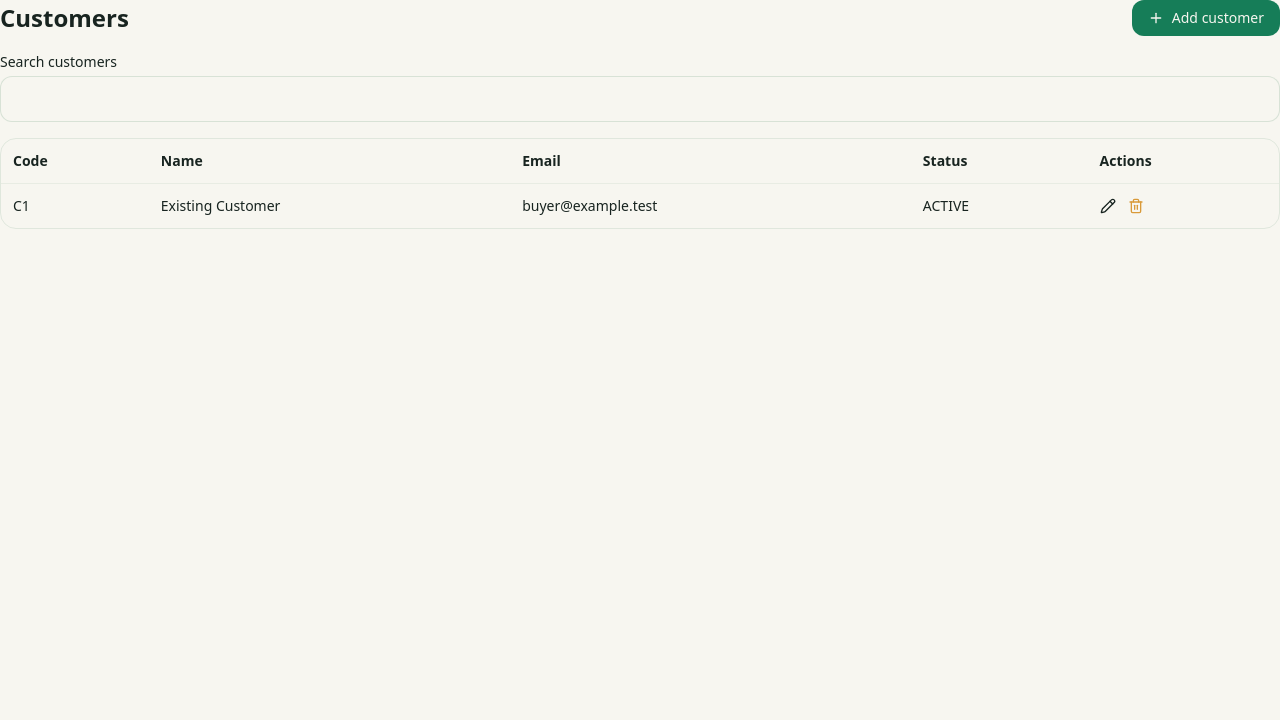
Module permissions and master data forms › loads customer records, filters and opens a validated create form
Expected: the text "Existing Customer" is shown, [149,184,510,228]
Type "unmatched" into the field labelled "Search customers".
click(640, 99); type("unmatched")  # box [0,76,1279,122]
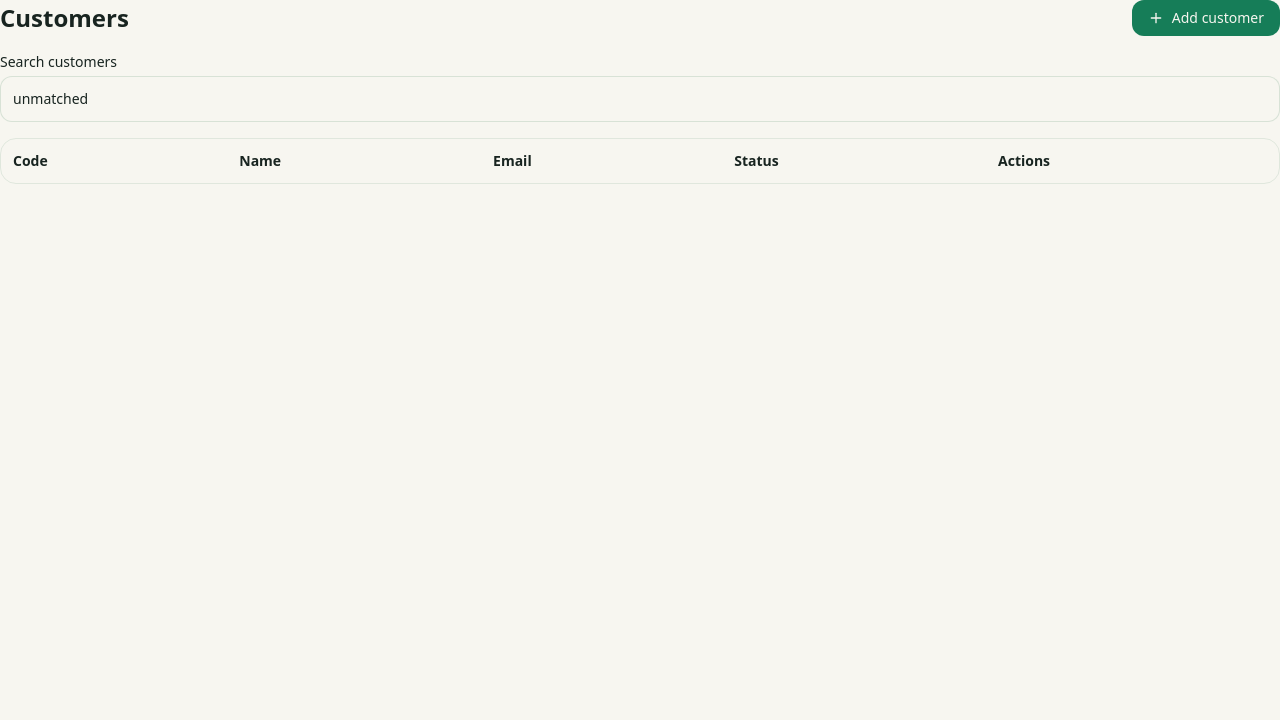
Now the text "Existing Customer" is gone
Click the button "Add customer".
click(1206, 18)  # box [1132,0,1279,36]
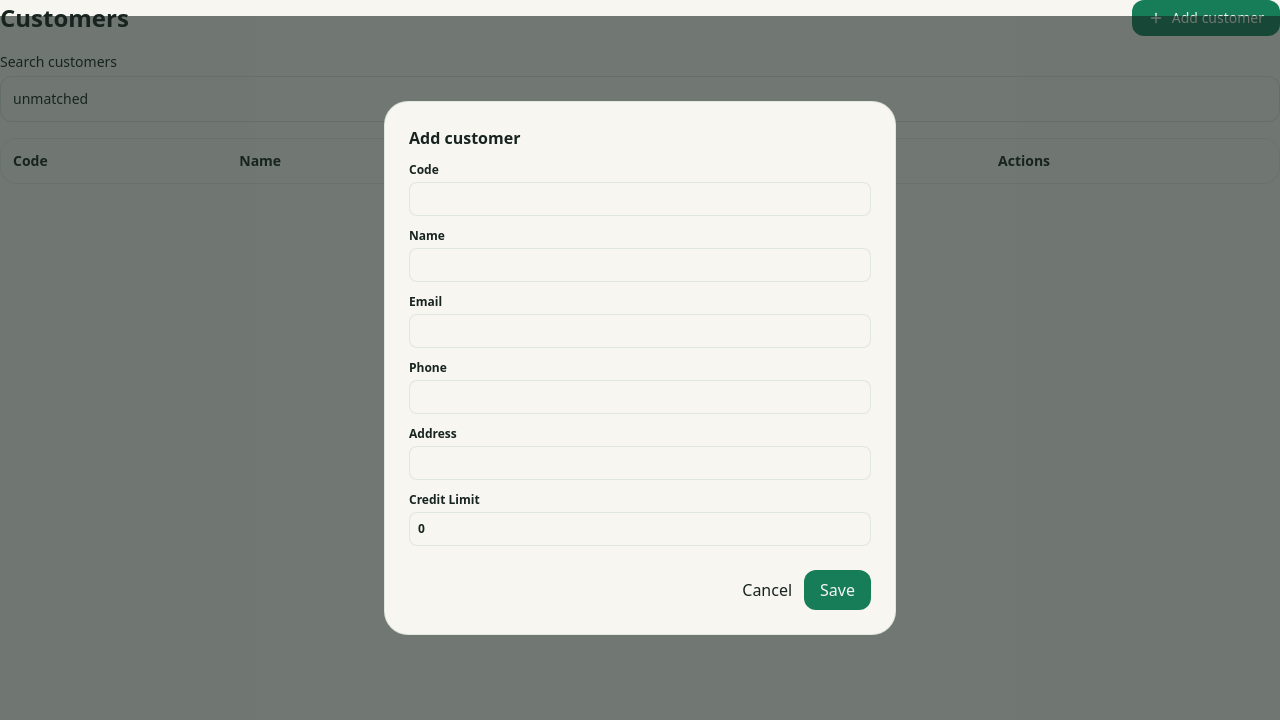
Now the dialog is shown
Click the button "Cancel".
click(767, 590)  # box [742,570,792,610]
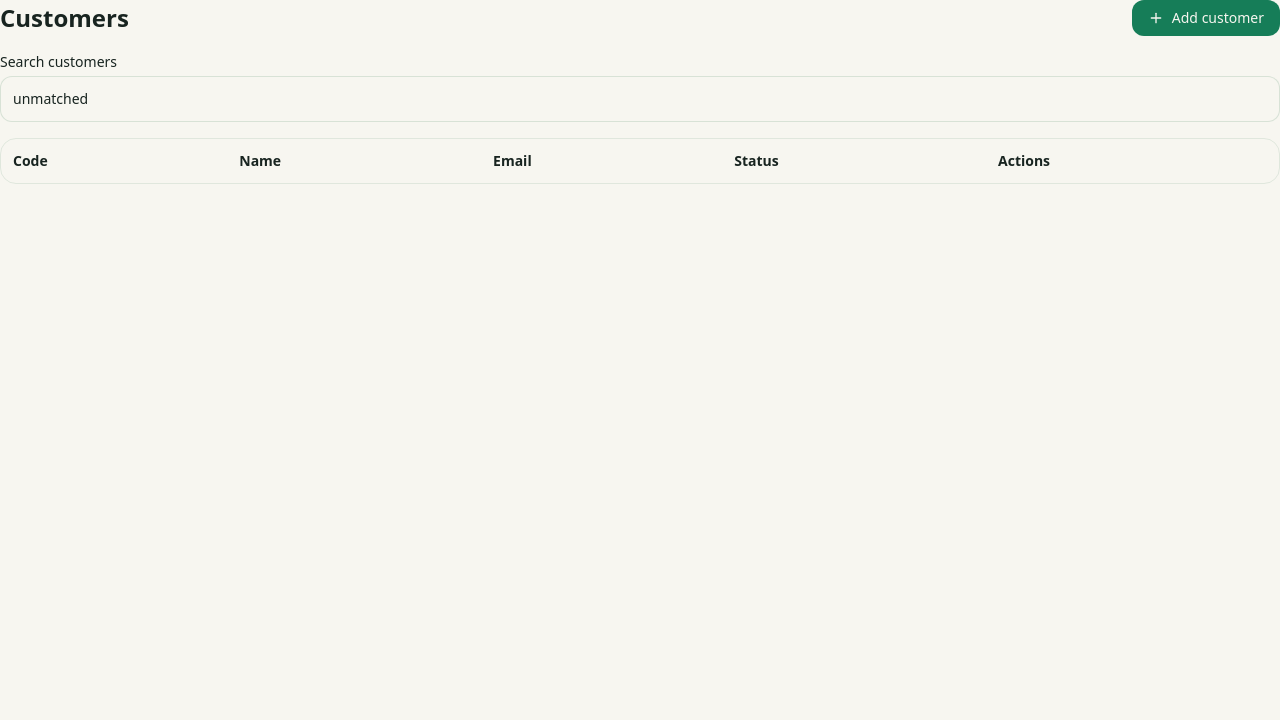
Now the dialog is gone
